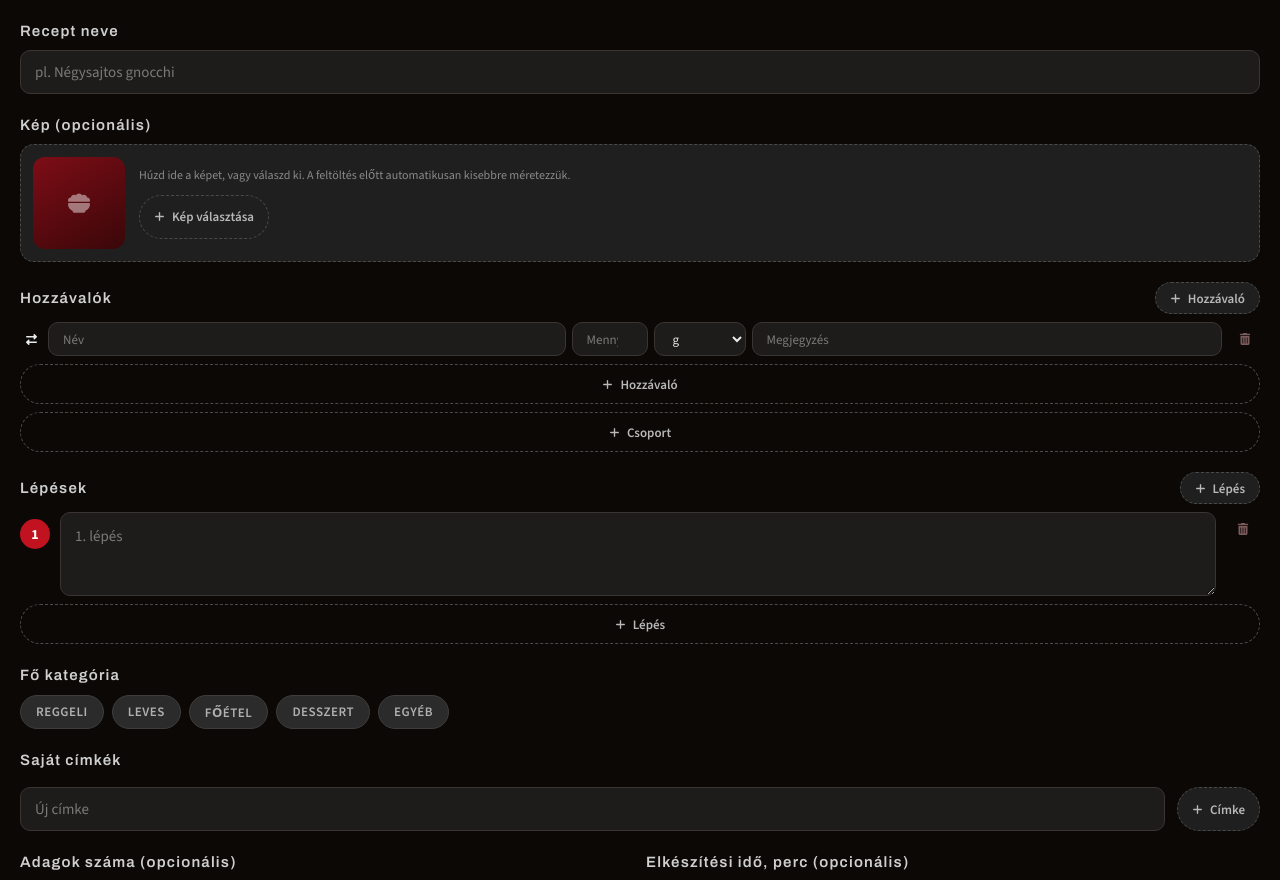
it: NewRecipeForm adding rows from the bottom › adds a step from the trailing button and focuses it
Expected: the number of text boxes with class "rform-textarea" is 1, [60, 512, 1216, 596]
Click the 2nd button "Lépés" at (640, 624), box [20, 604, 1260, 644]
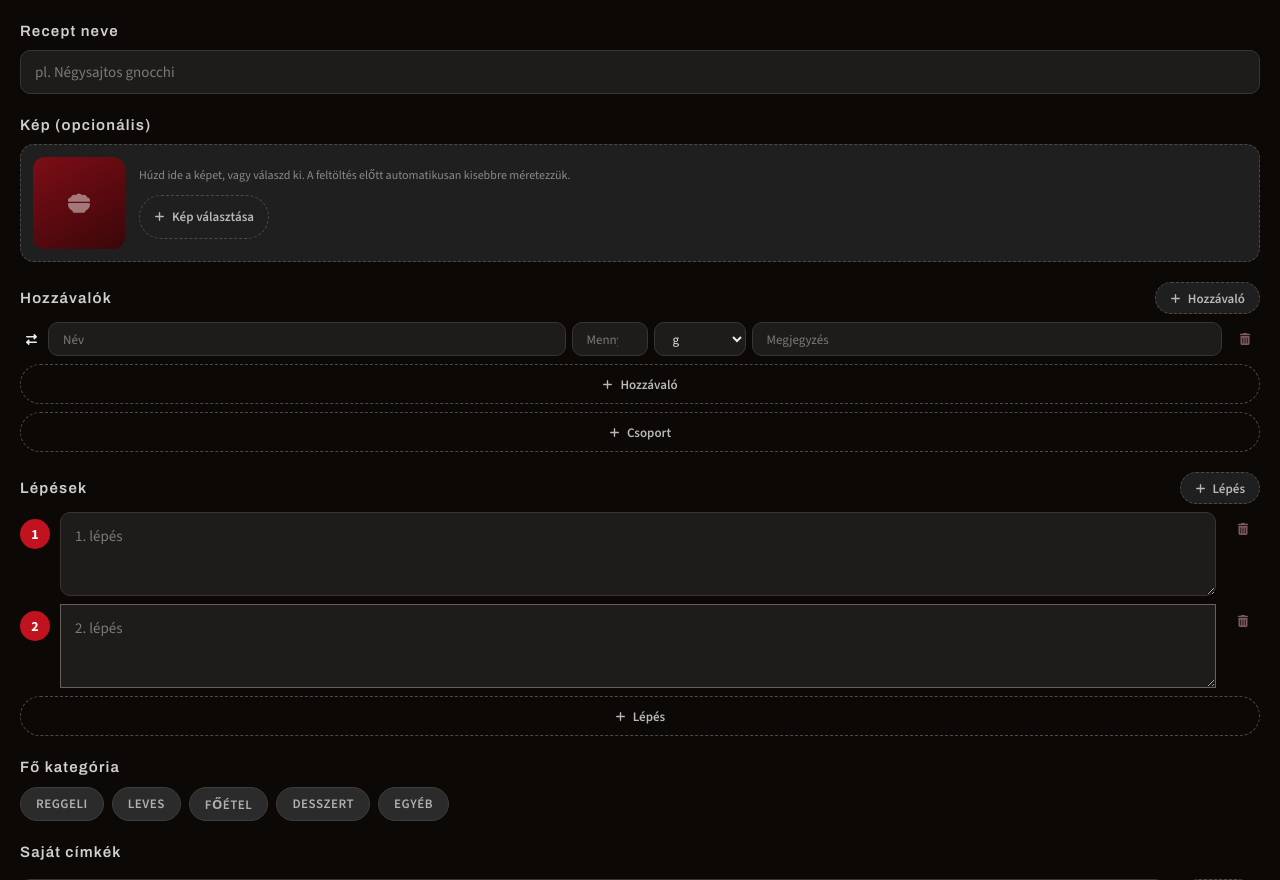
Expected: the number of text boxes with class "rform-textarea" is 2, [60, 512, 1216, 596]; [60, 604, 1216, 688]
